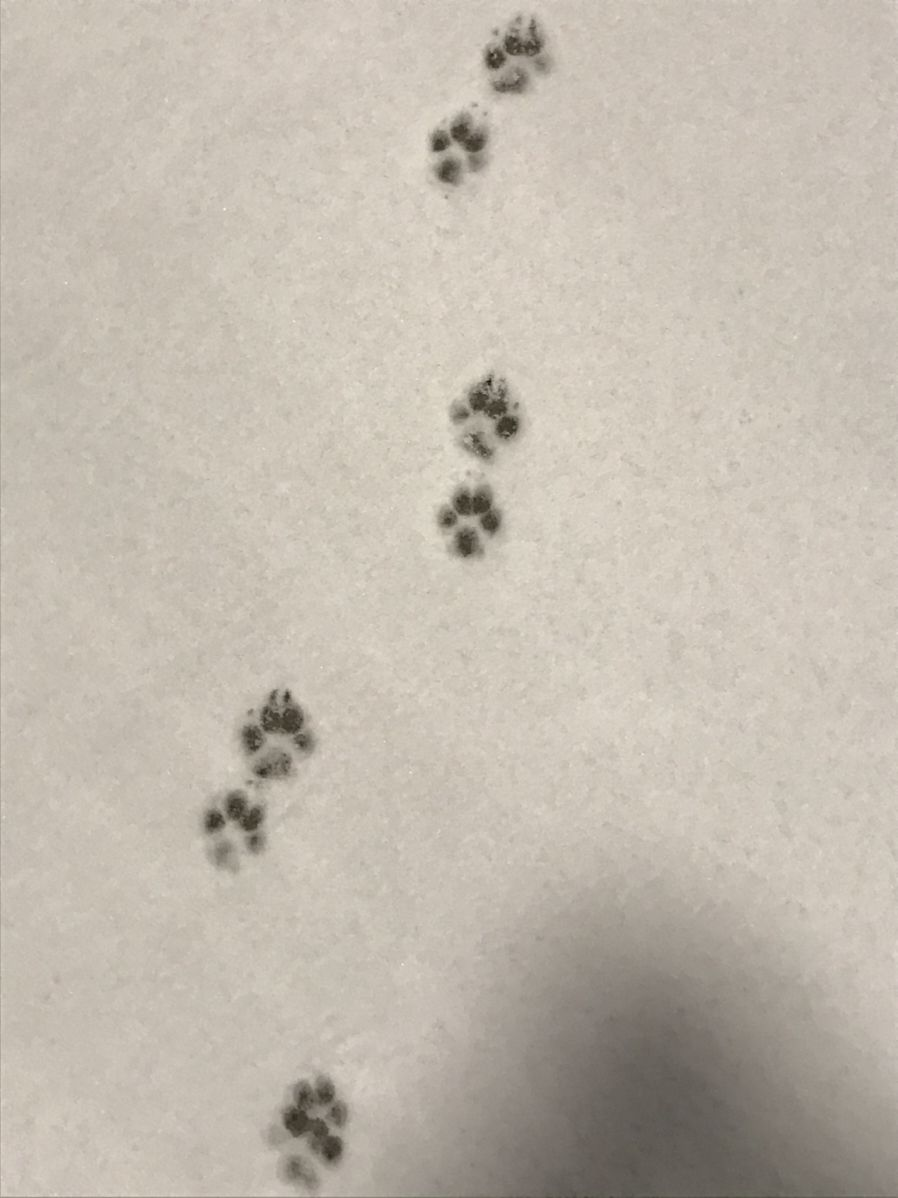cat: (264, 1059, 358, 1187), (229, 684, 324, 788), (438, 364, 533, 467), (180, 785, 280, 882), (480, 16, 559, 111), (418, 110, 507, 192), (434, 478, 511, 569)
